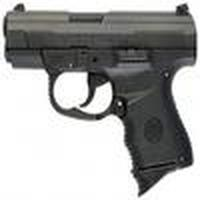gun: (3, 7, 200, 179)
